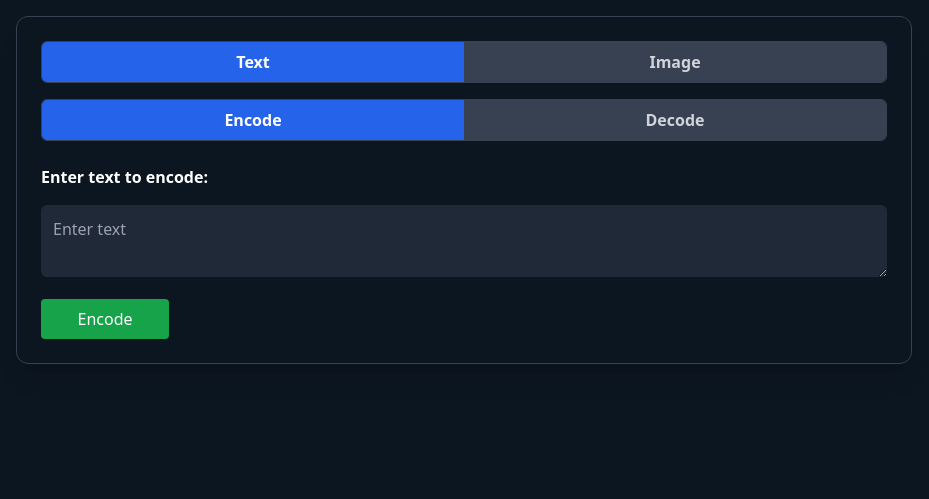
Test: Base64EncoderDecoder component › decodes text correctly
# submit text
Click the button "Decode": (675, 120) [464, 100, 886, 140]
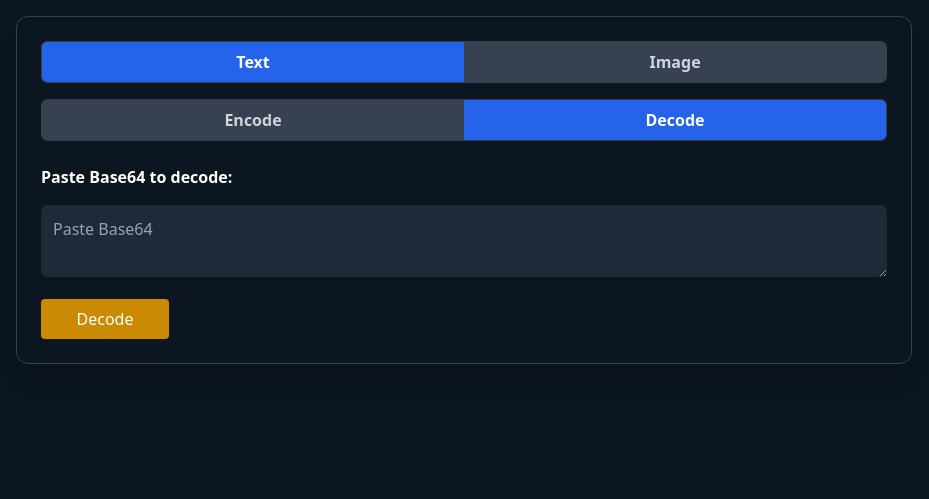
In the text box with placeholder "Paste Base64": (464, 241) [41, 205, 887, 277], type "aGVsbG8gd29ybGQ="
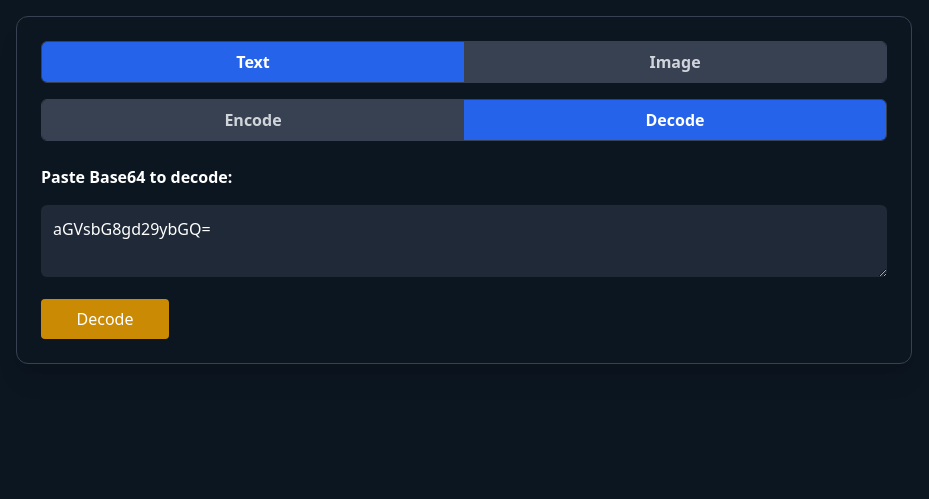
Click the button "Decode" below "Paste Base64 to decode:": (105, 319) [41, 299, 169, 339]
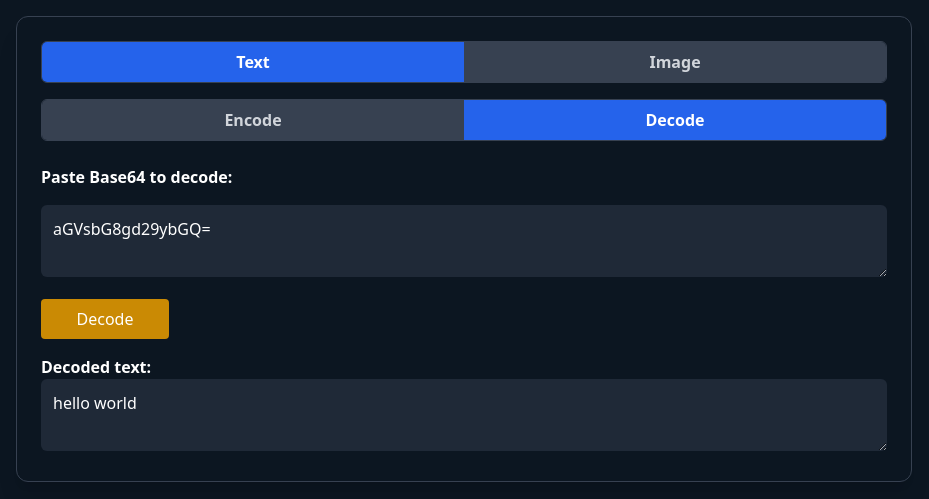
Result: the text box showing "hello world" below "Decoded text:" is shown at [41, 379, 887, 451]
